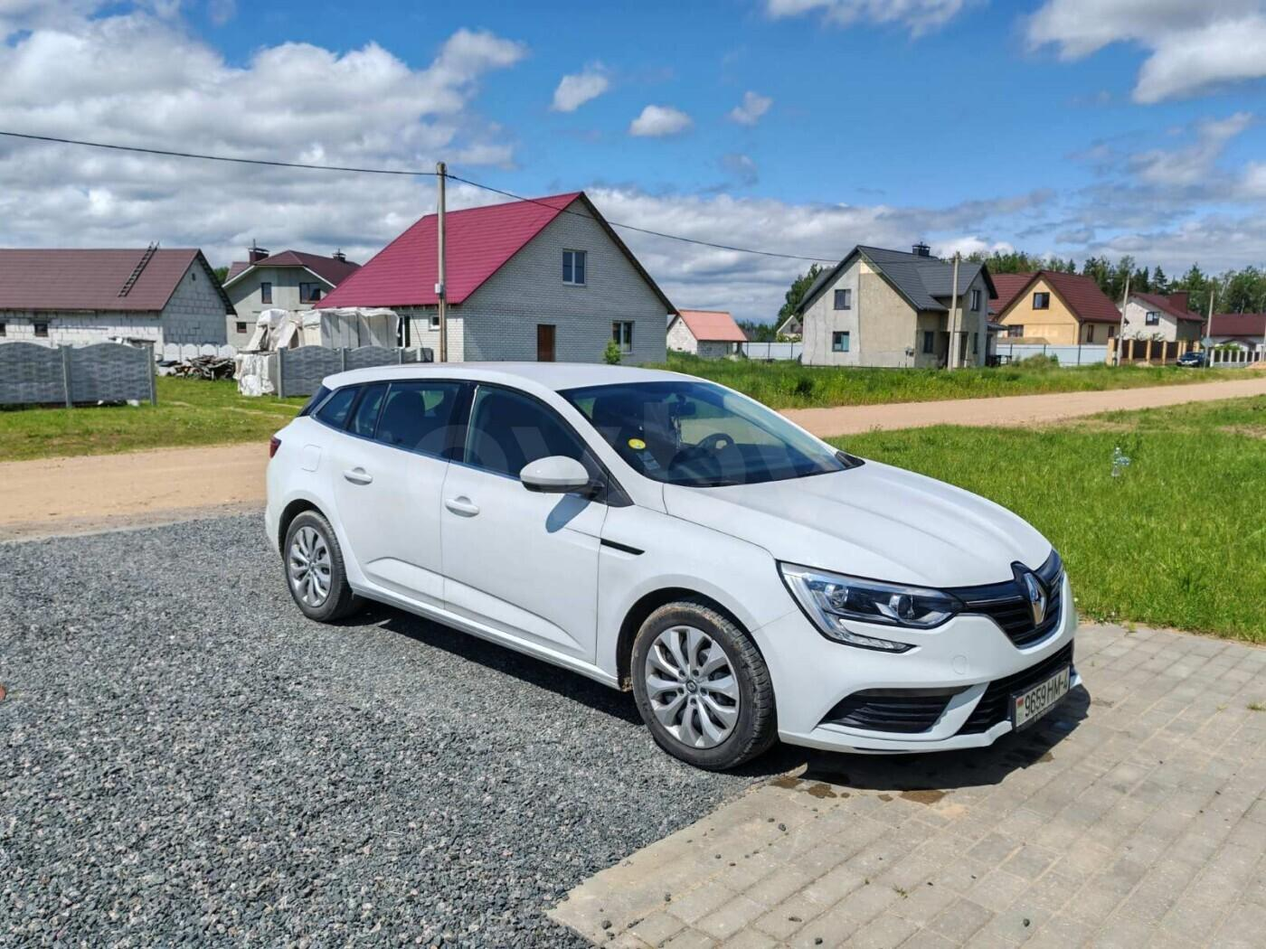Megane_2016-2020: (258, 358, 1089, 791)
